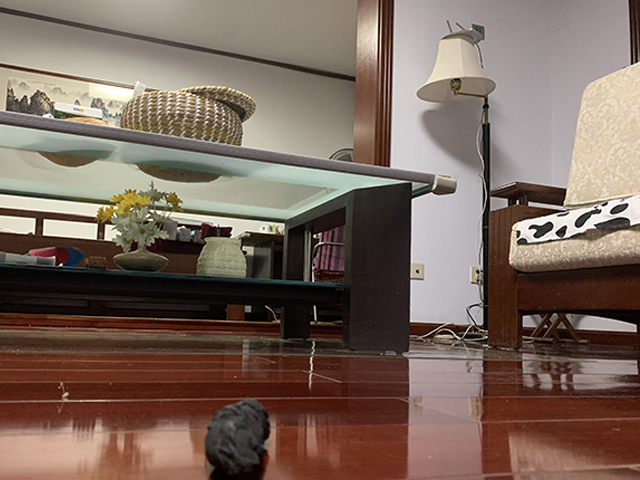bed: (1, 204, 249, 326)
feces: (200, 395, 272, 480)
sofa: (487, 62, 640, 354)
stool: (523, 314, 589, 347)
table: (1, 109, 458, 355)
wire: (415, 288, 492, 350)
